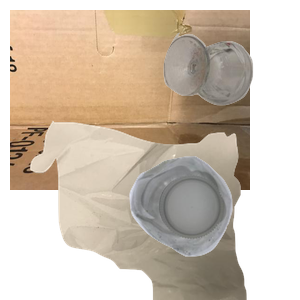cardboard: (10, 10, 250, 190)
glass: (161, 30, 300, 128)
plastic: (127, 154, 300, 300)
trash: (28, 120, 267, 300)
